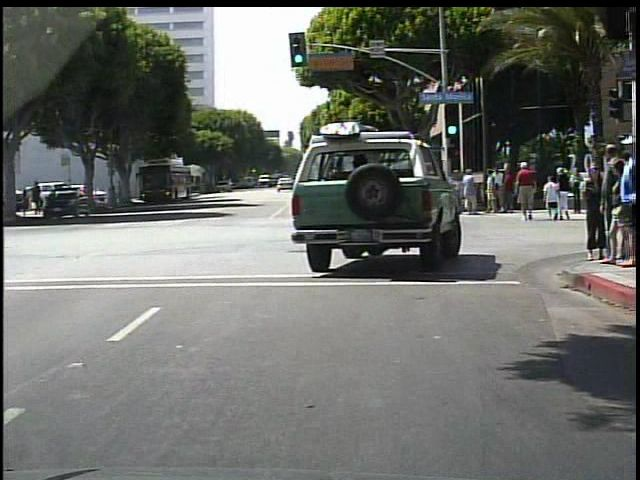person: (579, 163, 612, 265), (613, 136, 636, 265), (600, 142, 621, 263), (514, 162, 537, 223), (540, 173, 560, 224), (557, 166, 573, 222), (462, 165, 478, 216), (567, 166, 582, 218), (505, 168, 518, 216), (483, 169, 496, 213), (491, 166, 503, 210), (116, 181, 125, 208), (108, 180, 117, 203), (455, 167, 456, 215)
